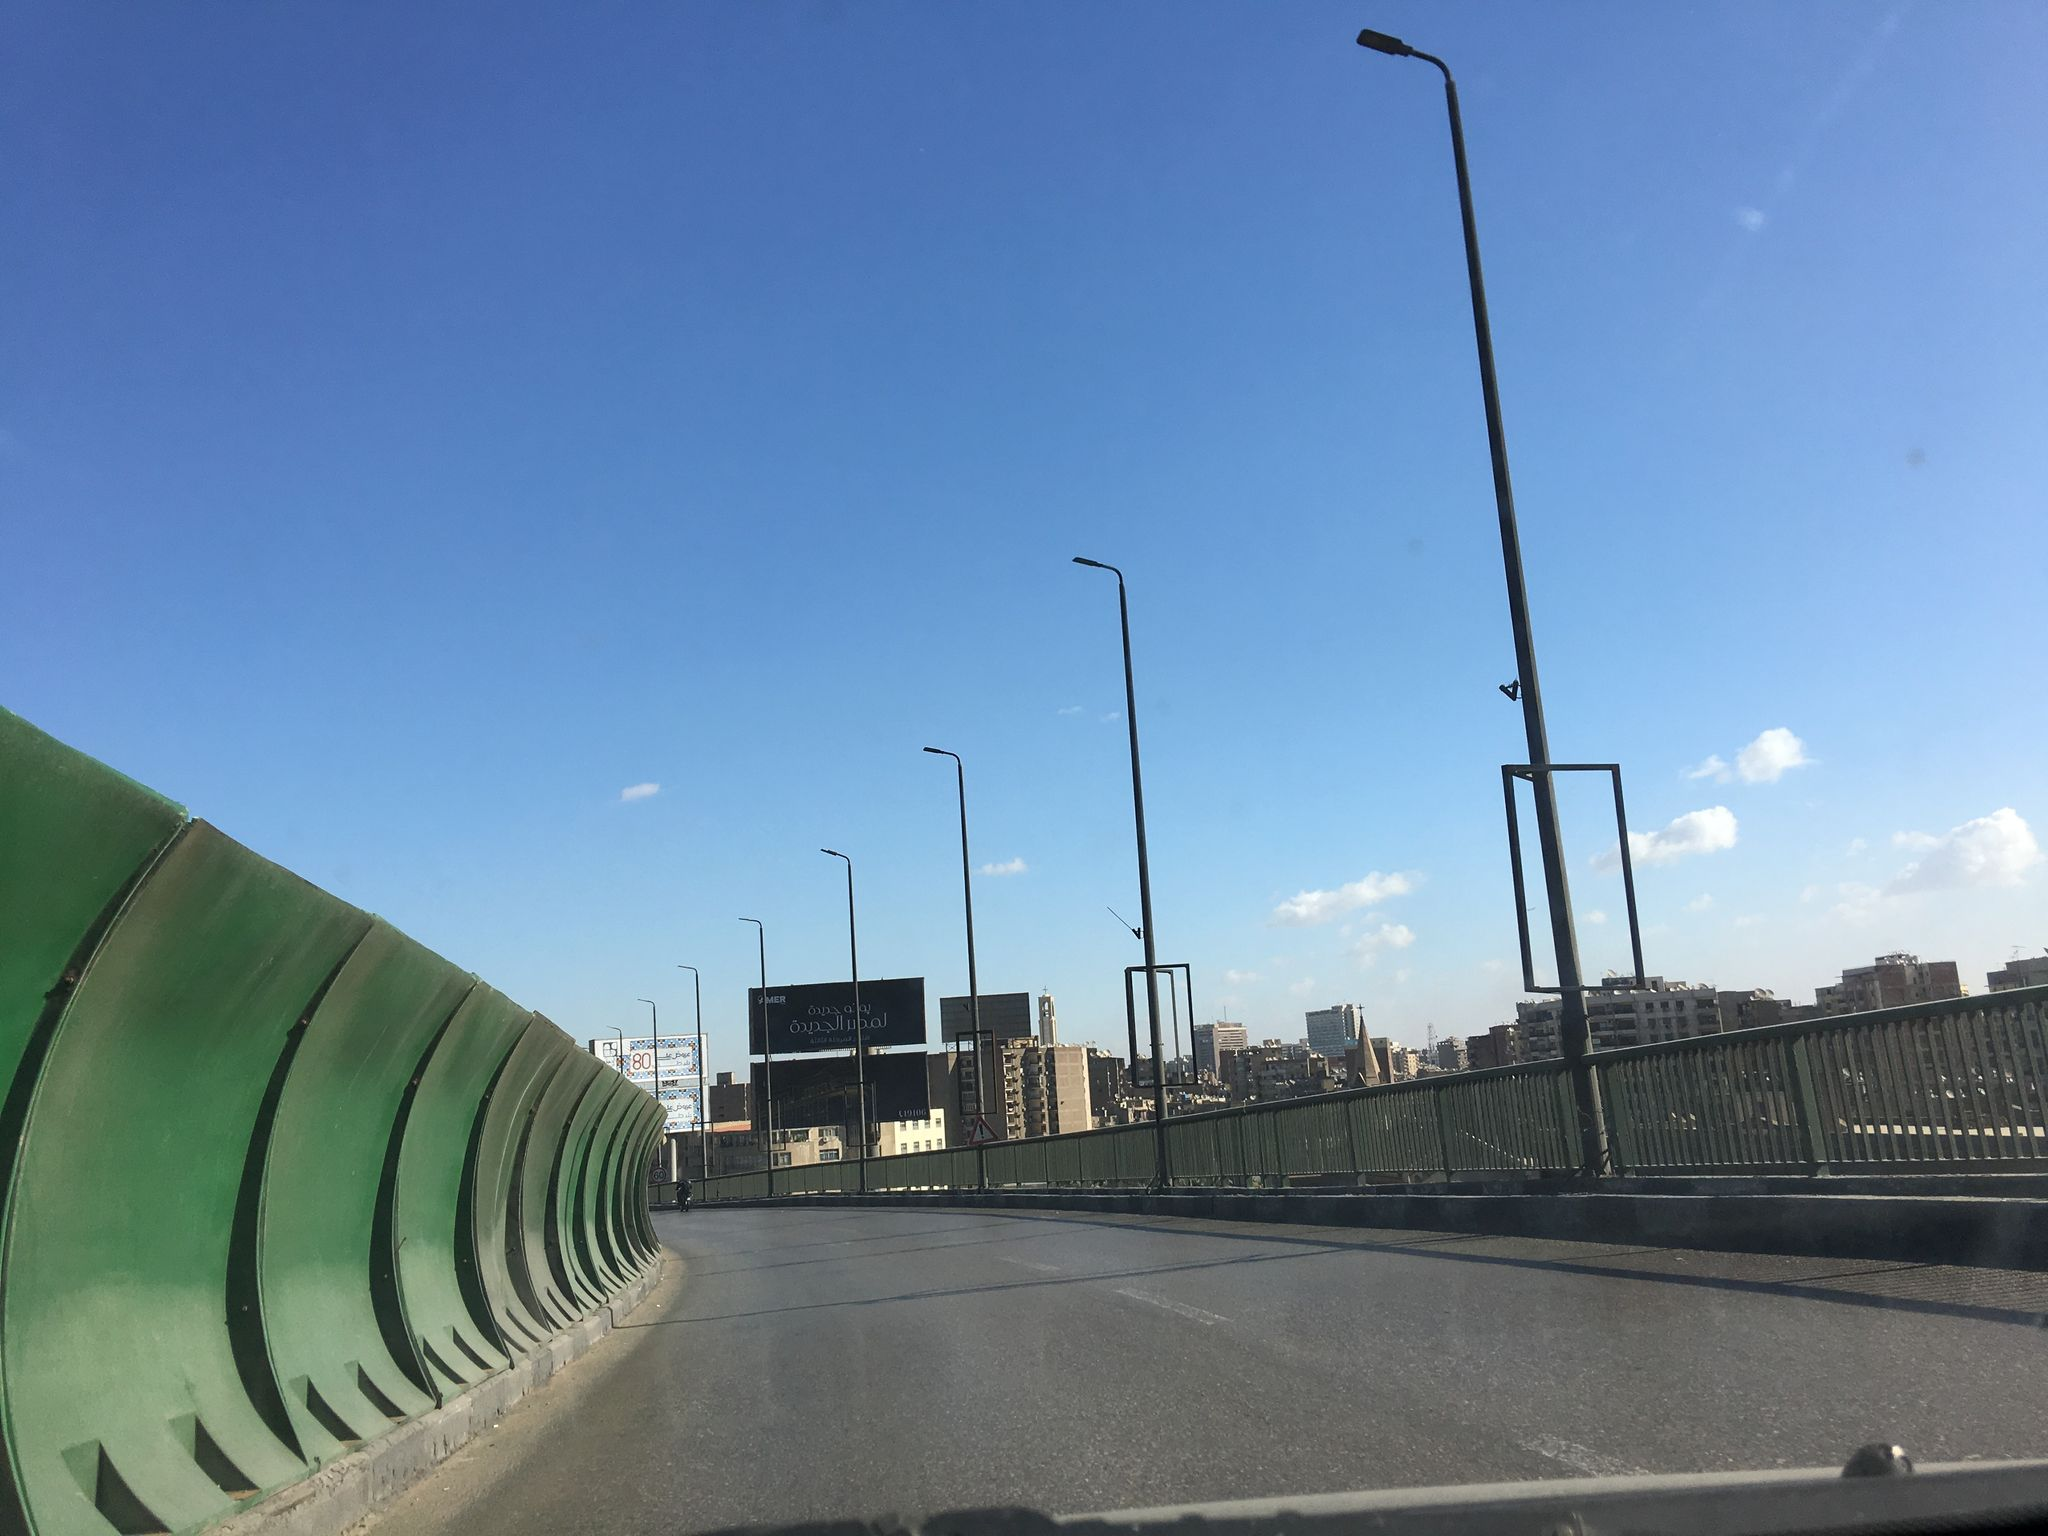motorcycle: (674, 1184, 695, 1212)
